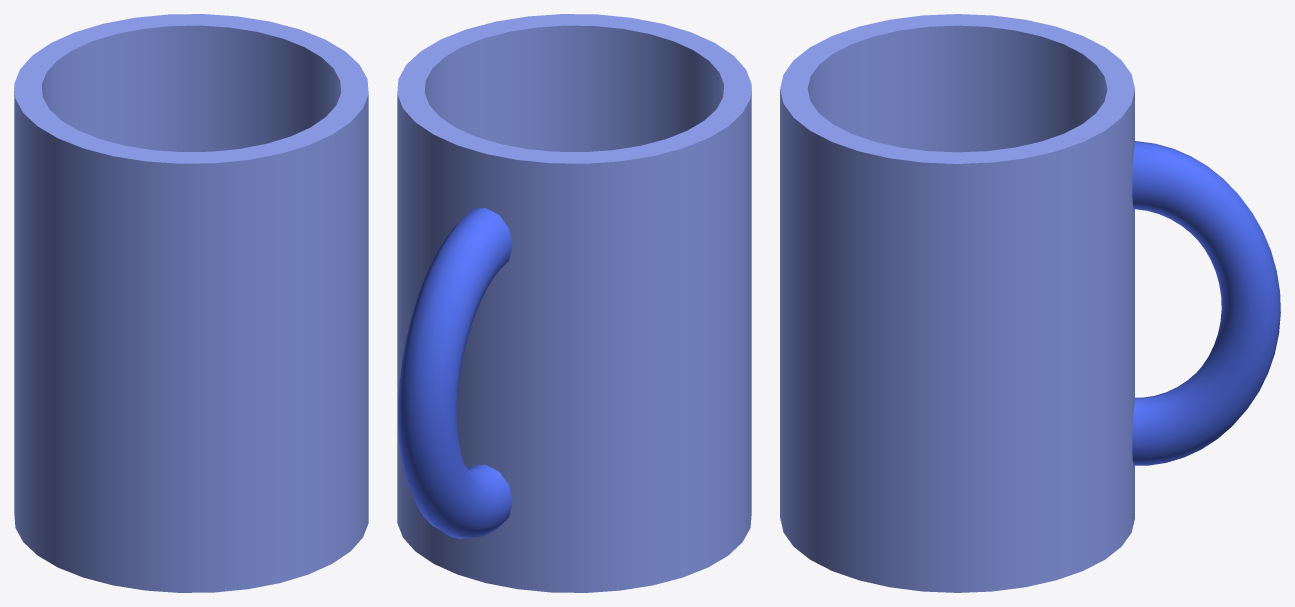
The picture shows the model from 3 angles, left to right: view 1: azimuth 30°, elevation 25°; view 2: azimuth 150°, elevation 25°; view 3: azimuth 270°, elevation 25°; orthographic projection.
Visible parts, largest first — view 1: Cylinder; view 2: Cylinder, Torus; view 3: Cylinder, Torus.
Boxes of the visible parts, x1=… form: Cylinder: x1=14, y1=14, x2=368, y2=592; Cylinder: x1=397, y1=14, x2=751, y2=592; Torus: x1=398, y1=208, x2=512, y2=538; Cylinder: x1=780, y1=14, x2=1134, y2=592; Torus: x1=1132, y1=141, x2=1280, y2=465.
Size of the model in its own units: 300 by 400 by 423.
